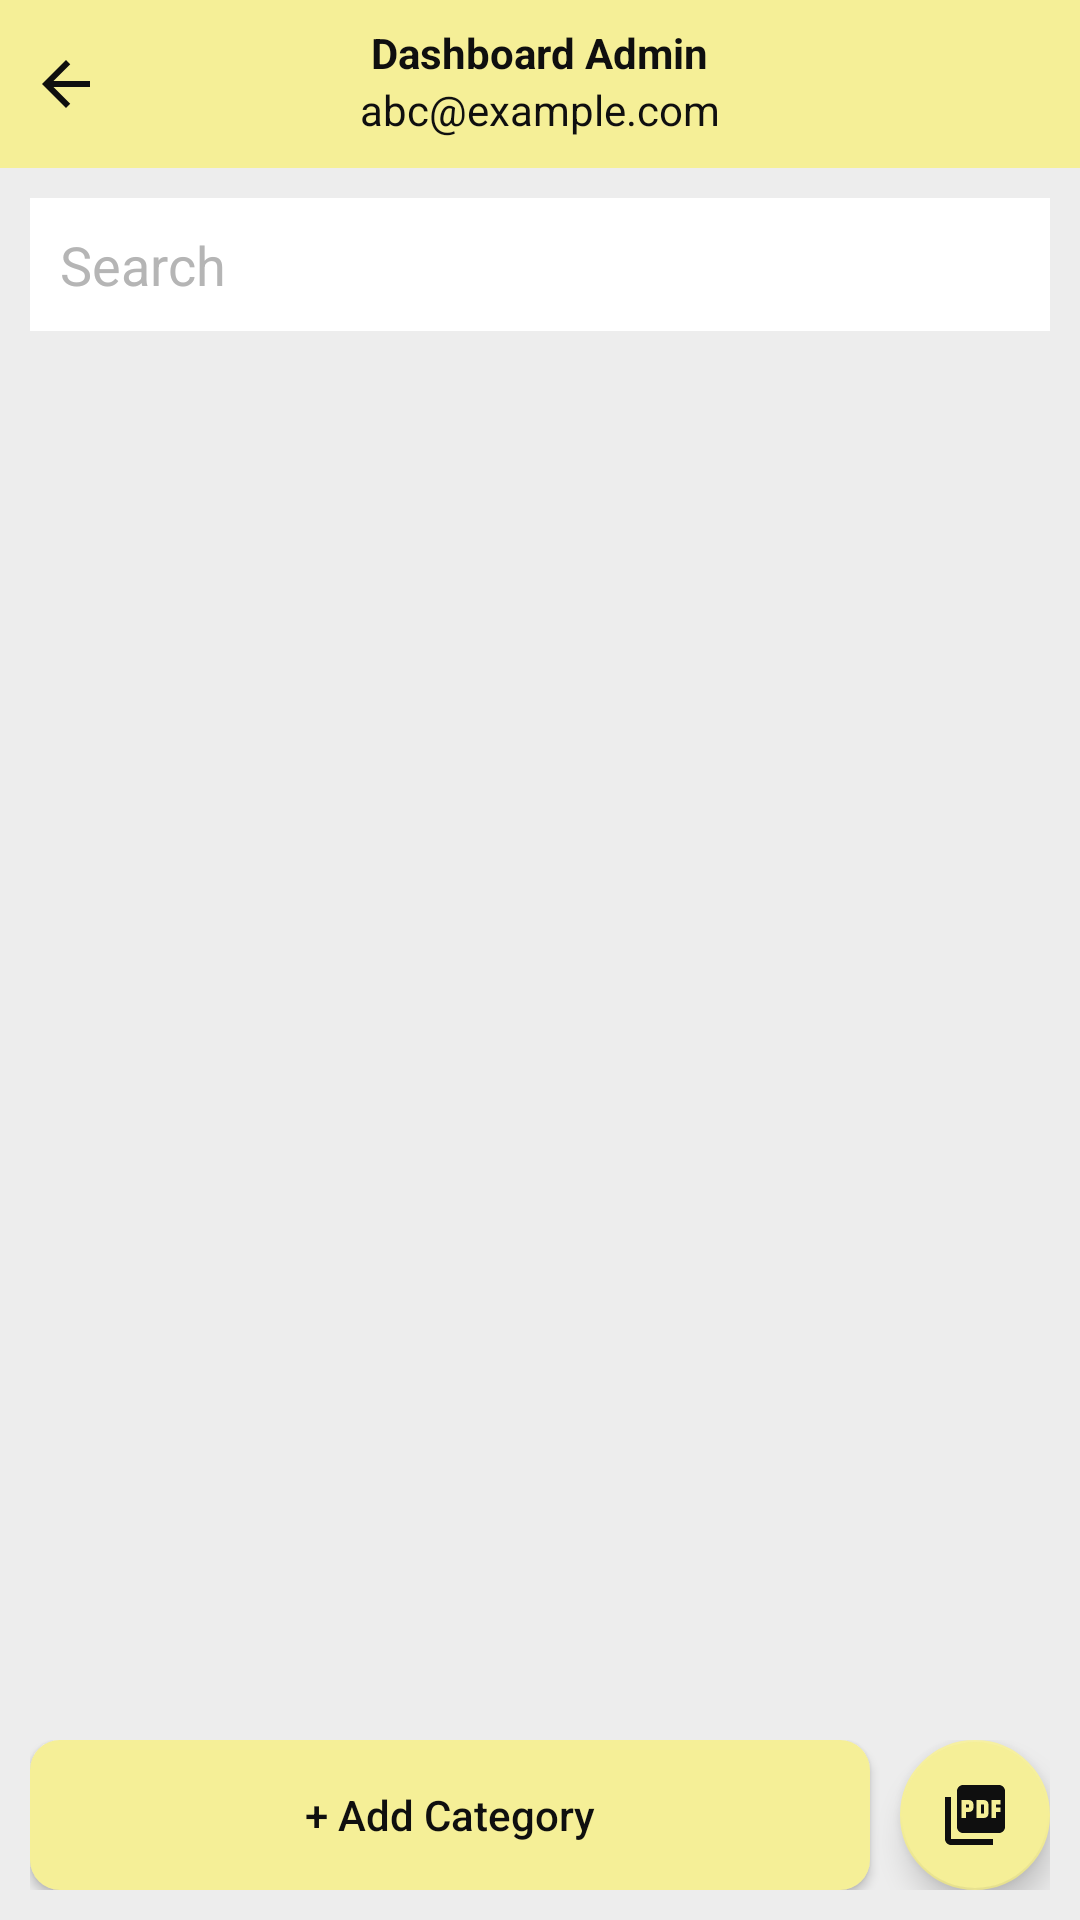

Named icons in this screenshot (1080x1920) and their bounding boxes, bbox=(x1, y1, x2, y2):
back: bbox=(42, 60, 90, 108)
pdf add: bbox=(900, 1740, 1050, 1890)
